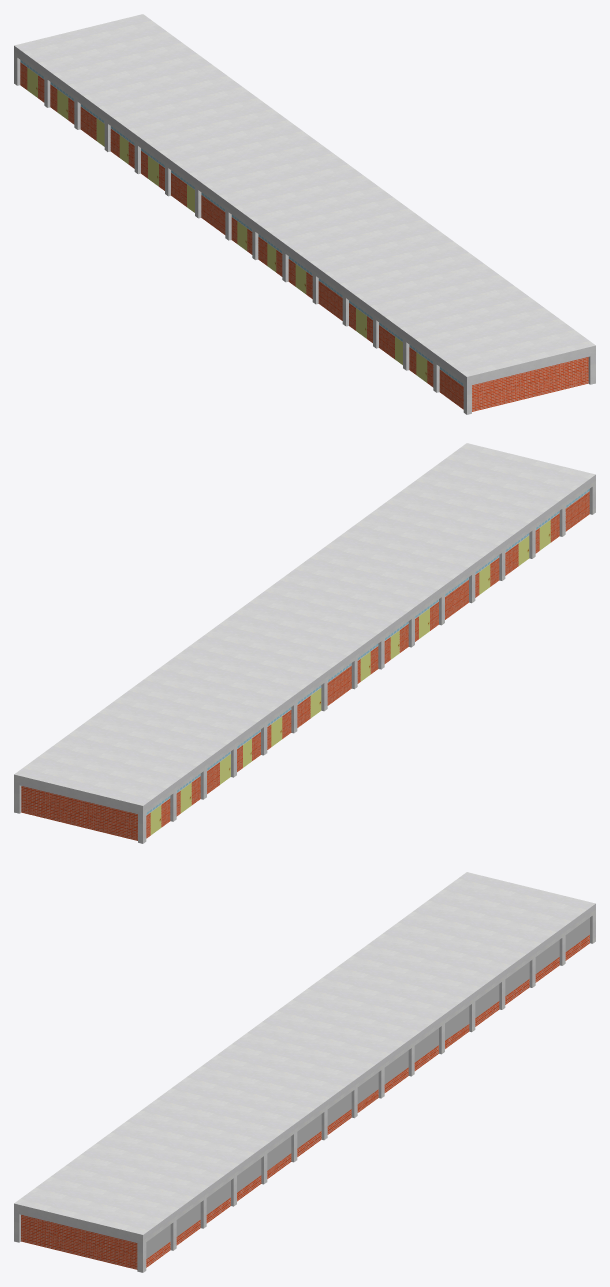
Rendered from pabellon_7.fbx.
The picture shows the model from 3 angles, top to bottom: view 1: azimuth 30°, elevation 25°; view 2: azimuth 150°, elevation 25°; view 3: azimuth 330°, elevation 25°; orthographic projection.
Parts seen in each view (by area): view 1: pabellon_7_final; view 2: pabellon_7_final; view 3: pabellon_7_final.
Boxes of the visible parts, box(x1,y1,x2,y2) form: pabellon_7_final: box(14, 14, 595, 414); pabellon_7_final: box(14, 443, 595, 843); pabellon_7_final: box(14, 872, 595, 1272).
Bounding box in the file's own units: 1309 × 368 × 7947.
